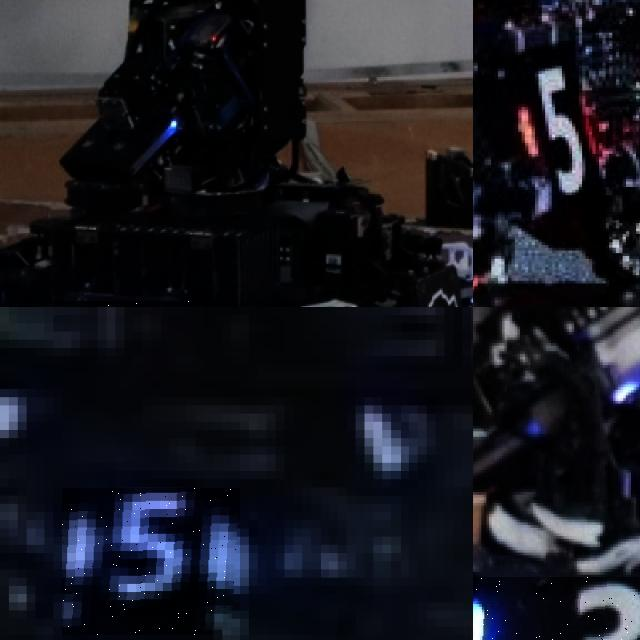B3: (473, 577, 640, 640)
B5: (62, 488, 240, 635)
R5: (518, 63, 602, 190)
